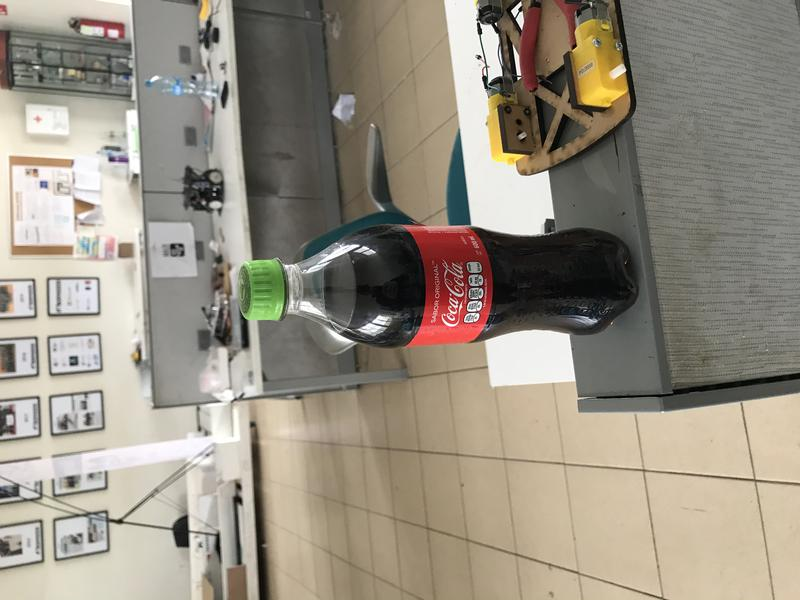coca_cola: (237, 224, 639, 350)
